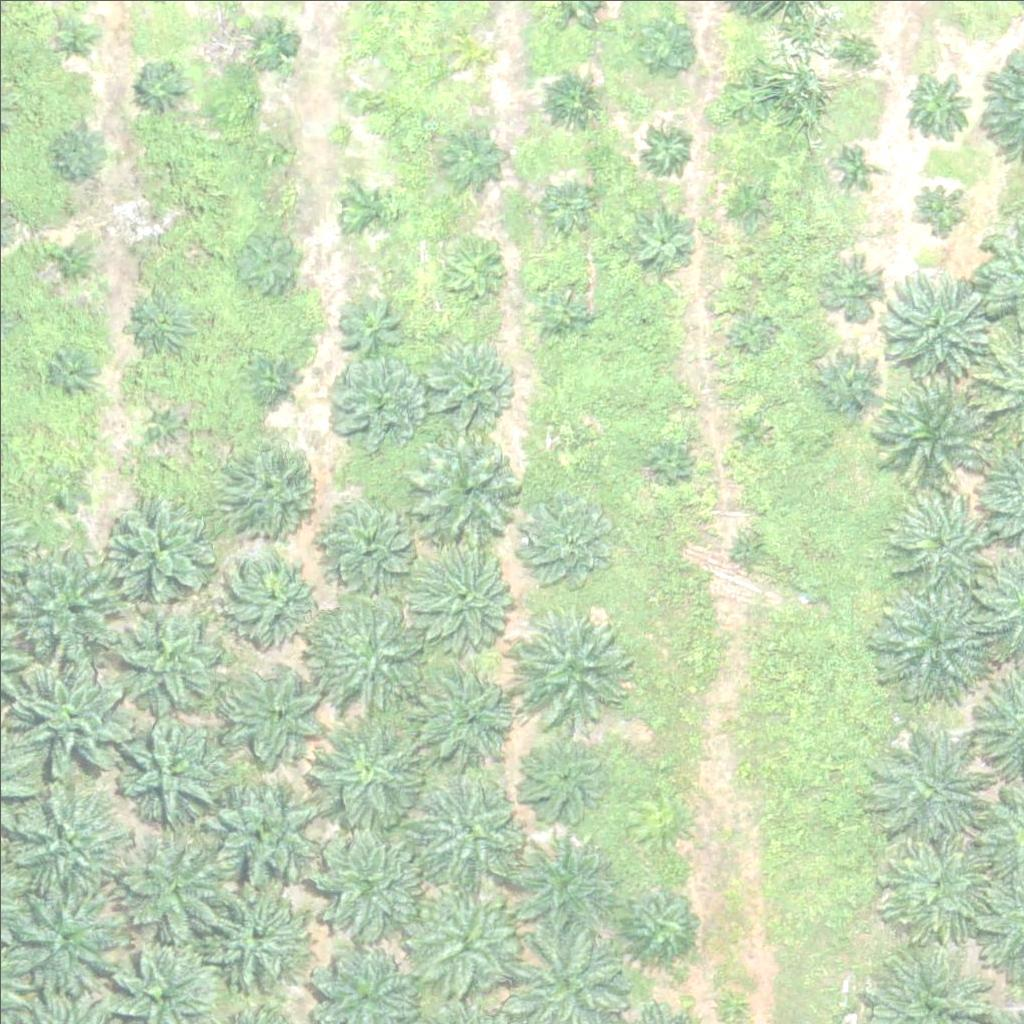Kelapa_Sawit: (874, 820, 999, 946), (870, 720, 995, 846), (874, 575, 999, 701), (863, 355, 988, 481), (514, 604, 639, 730), (104, 590, 229, 716), (1, 875, 126, 1001), (3, 781, 128, 907), (8, 646, 133, 772), (8, 531, 133, 657), (302, 590, 427, 715), (198, 874, 311, 987), (415, 434, 528, 547), (311, 829, 424, 942), (311, 716, 424, 829), (213, 778, 326, 891), (99, 488, 212, 601), (120, 826, 232, 940), (407, 878, 519, 991), (506, 827, 618, 940), (411, 771, 523, 884), (409, 538, 521, 651), (118, 714, 230, 827), (877, 261, 989, 374), (888, 485, 988, 586), (518, 490, 618, 591), (415, 662, 515, 763), (317, 490, 417, 591), (227, 662, 327, 763), (225, 545, 325, 646), (227, 432, 327, 533), (322, 355, 422, 456), (519, 738, 606, 826), (422, 335, 509, 423), (631, 5, 706, 81), (622, 885, 697, 961), (899, 70, 974, 145), (233, 225, 308, 300), (824, 255, 887, 318), (814, 353, 877, 416), (440, 125, 503, 188), (541, 70, 604, 133), (531, 280, 594, 343), (47, 120, 110, 183), (635, 211, 697, 274), (130, 289, 192, 352), (339, 298, 401, 361), (441, 235, 503, 298), (910, 177, 960, 228), (345, 187, 395, 238), (138, 62, 188, 113), (45, 240, 95, 291), (722, 68, 772, 119), (640, 122, 690, 172), (546, 181, 596, 231), (47, 350, 97, 400), (246, 16, 296, 66), (142, 398, 192, 448), (39, 467, 89, 517), (50, 13, 100, 63), (250, 132, 288, 170), (734, 314, 772, 352), (730, 412, 768, 450), (729, 531, 767, 569), (727, 188, 765, 226), (252, 357, 290, 394), (544, 419, 582, 456), (649, 438, 686, 476), (837, 144, 874, 181), (833, 34, 870, 71), (140, 212, 165, 237), (352, 92, 377, 117), (457, 38, 482, 63), (630, 301, 655, 326)
